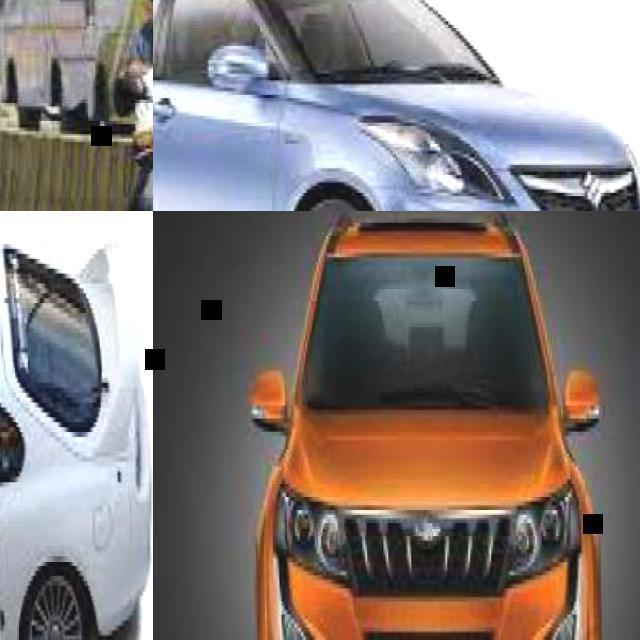car: (260, 206, 589, 639)
